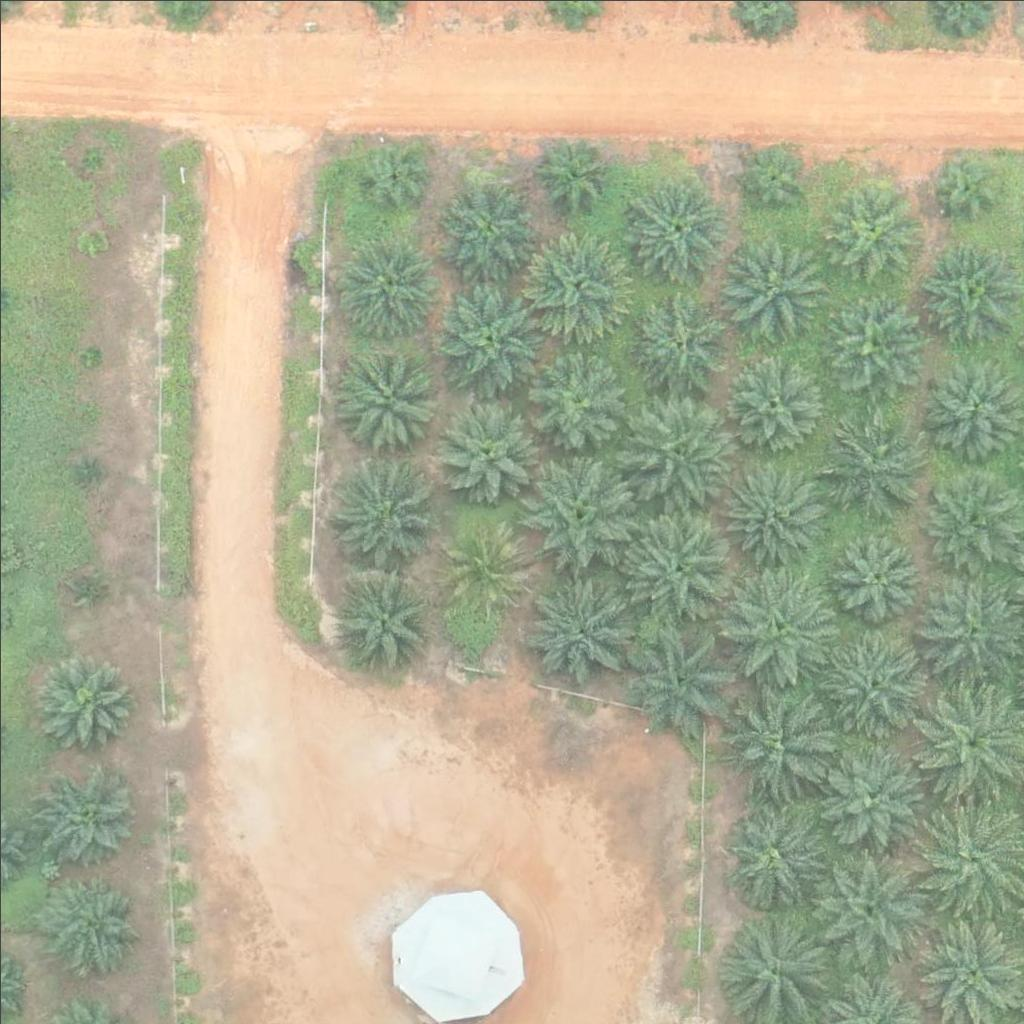Kelapa_Sawit: (518, 571, 631, 685), (520, 455, 633, 569), (620, 620, 733, 734), (719, 909, 832, 1022), (431, 283, 544, 396), (812, 849, 924, 963), (621, 514, 733, 628), (718, 681, 830, 795), (519, 222, 631, 335), (324, 457, 436, 570), (624, 390, 736, 503), (721, 568, 833, 681), (817, 623, 929, 736), (815, 738, 927, 851), (42, 875, 142, 976), (34, 764, 134, 865), (36, 656, 136, 757), (334, 569, 434, 670), (437, 177, 537, 278), (628, 286, 728, 387), (624, 179, 724, 280), (722, 463, 822, 564), (721, 350, 821, 451), (721, 241, 821, 342), (822, 418, 922, 519), (820, 292, 920, 393), (820, 180, 920, 281), (914, 468, 1014, 569), (920, 360, 1020, 461), (919, 238, 1019, 339), (722, 803, 822, 903), (339, 350, 439, 450), (334, 236, 434, 336), (433, 397, 533, 497), (527, 347, 627, 447), (440, 519, 528, 607), (833, 529, 920, 617), (353, 138, 428, 214), (927, 146, 1002, 222), (535, 133, 610, 208), (731, 139, 806, 214), (74, 572, 99, 597), (74, 459, 99, 484), (78, 341, 103, 366), (82, 229, 107, 254), (79, 145, 104, 170)
